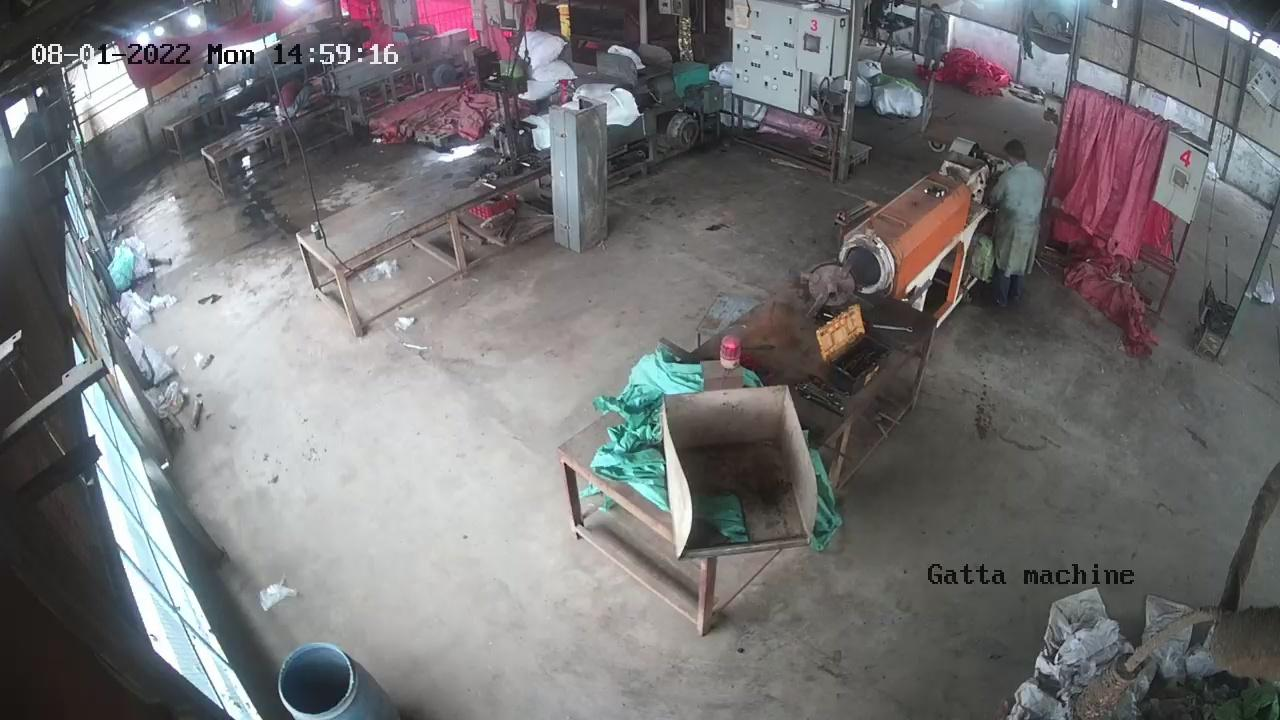person: (1009, 147, 1043, 297)
